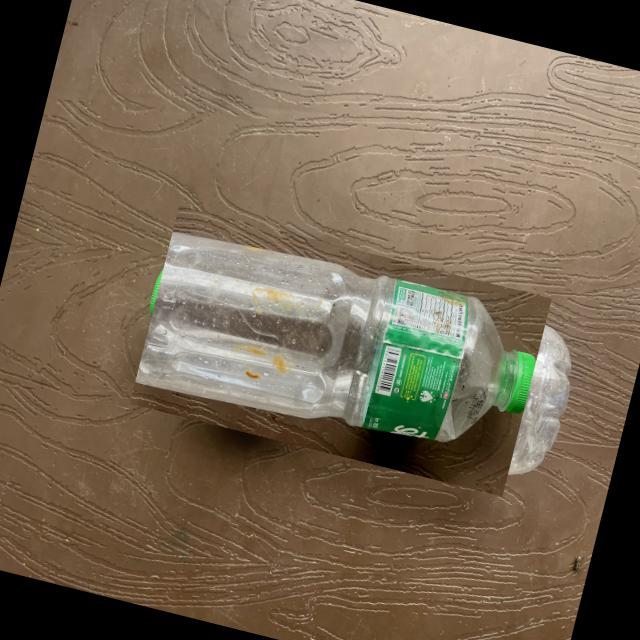REJECT: (128, 204, 550, 495)
